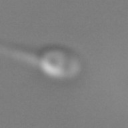normal: (1, 37, 39, 66)
